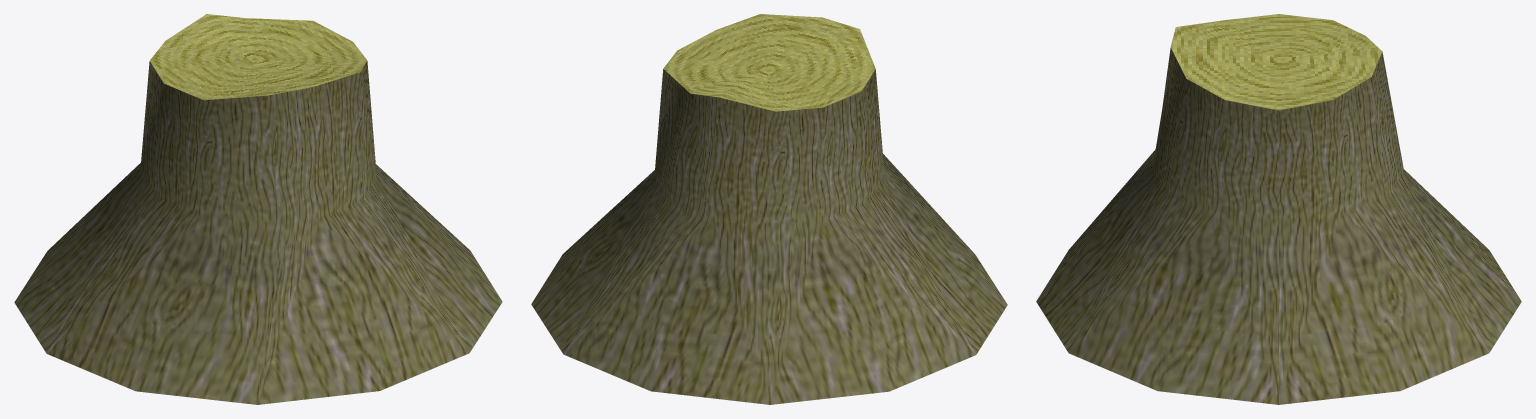
Rendered from stump01.obj.
3 renders of one model, left to right at view 1: azimuth 30°, elevation 25°; view 2: azimuth 150°, elevation 25°; view 3: azimuth 270°, elevation 25°, orthographic. The views are drawn at different scales.
Parts seen in each view (by area): view 1: stump, stump top; view 2: stump, stump top; view 3: stump, stump top.
Part boxes in pixels (x1,y1,x2,y2): stump: (14, 61, 502, 404); stump top: (149, 14, 367, 100); stump: (531, 69, 1007, 404); stump top: (663, 14, 875, 111); stump: (1036, 48, 1521, 404); stump top: (1170, 14, 1382, 110).
Bounding box in the file's own units: 38.54 × 22.12 × 38.27.
